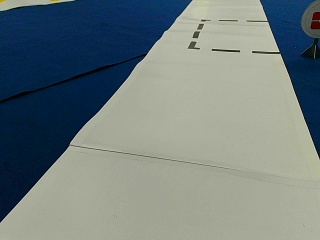company: (301, 1, 320, 37)
